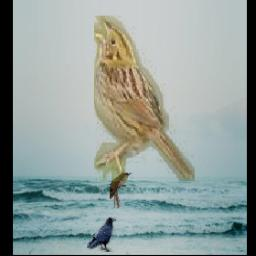Crow: (87, 216, 116, 252)
Cuckoo: (110, 173, 133, 209)
Sparrow: (94, 17, 195, 182)
